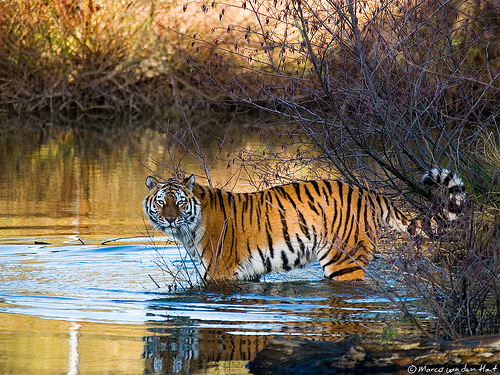Tigre: (137, 167, 450, 292)
